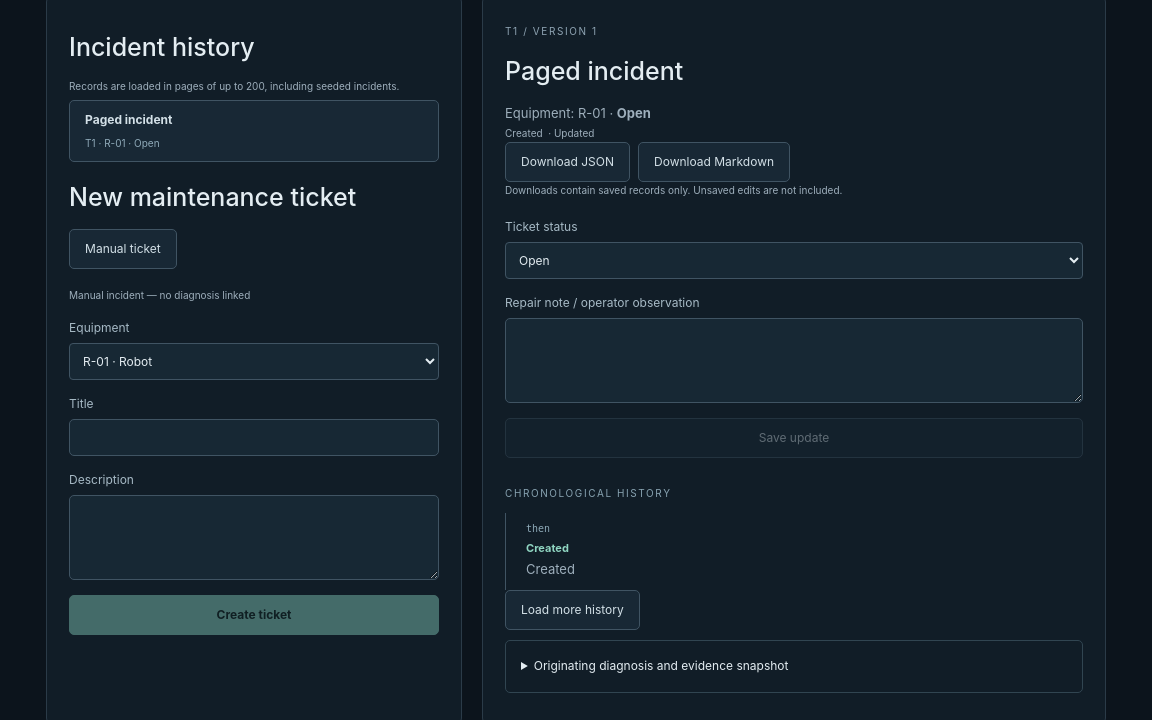
Test: loads bounded history without clearing an unsaved repair draft
The width and height of the screenshot is (1152, 720).
(page scrolled)
Expected: the button "Load more history" is shown, [505,590,640,630]
Type "Keep this draft" into the text box labelled "Repair note / operator observation" at x=794, y=360, box [505,318,1083,402]
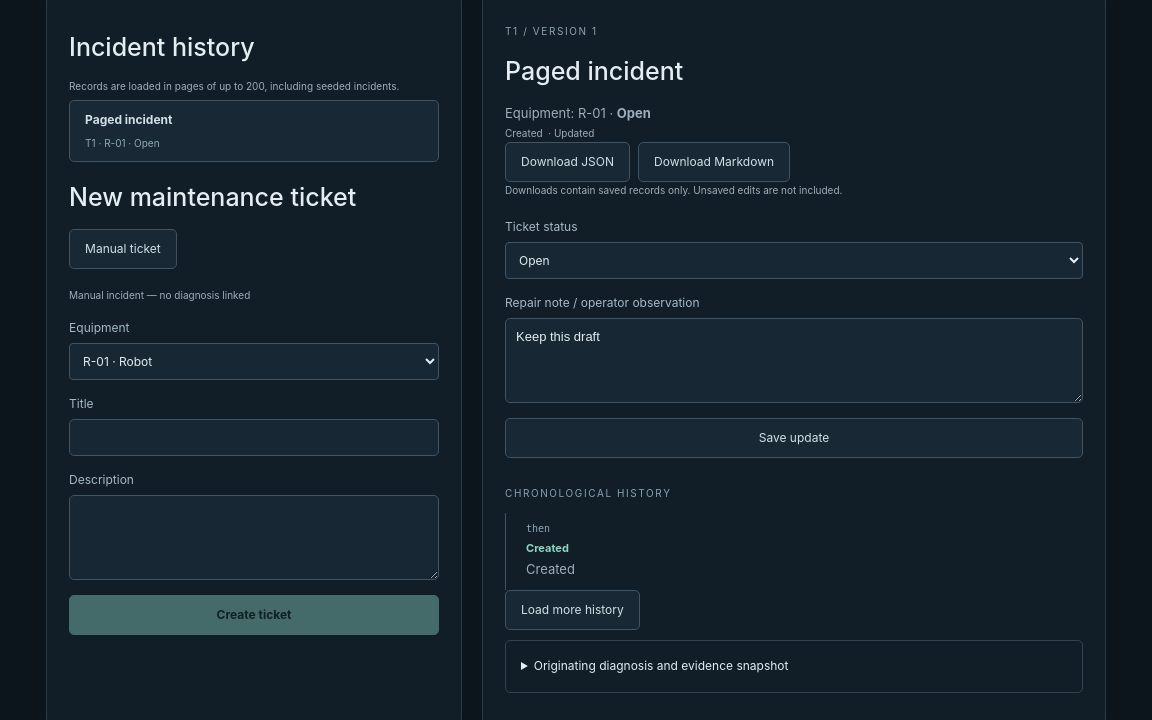
Click the button "Load more history" at x=572, y=610, box [505,590,640,630]
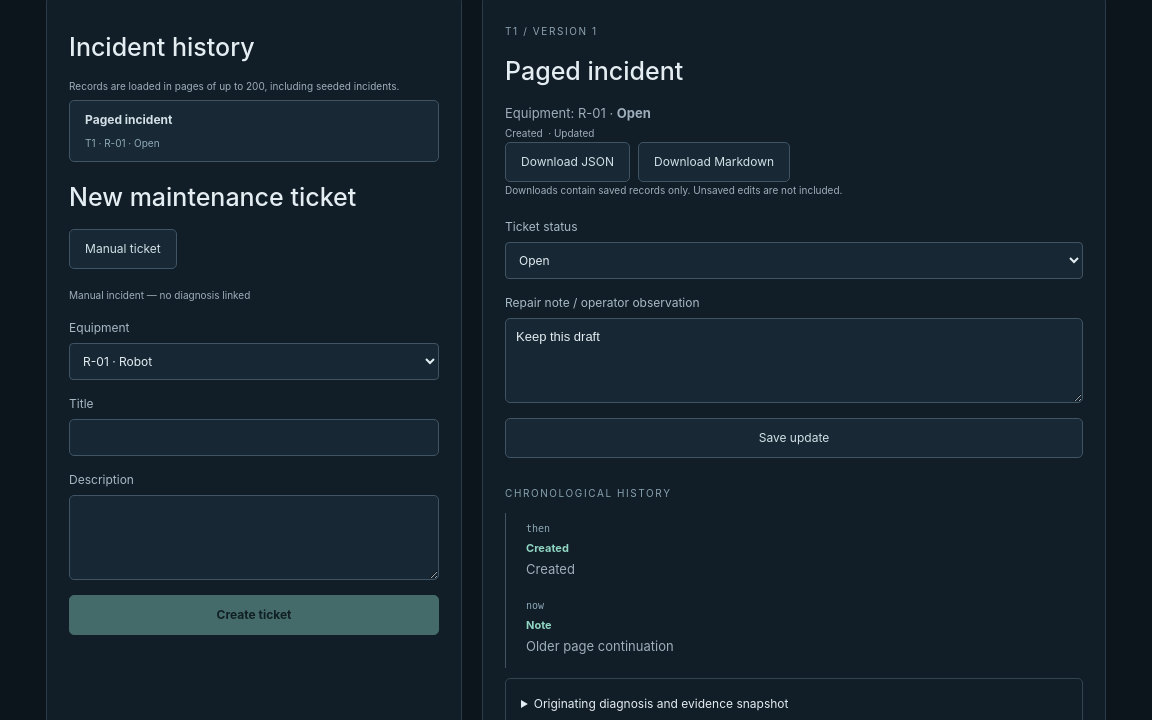
Result: the text "Older page continuation" is shown at [526,638,674,654]
Result: the button "Load more history" is gone
